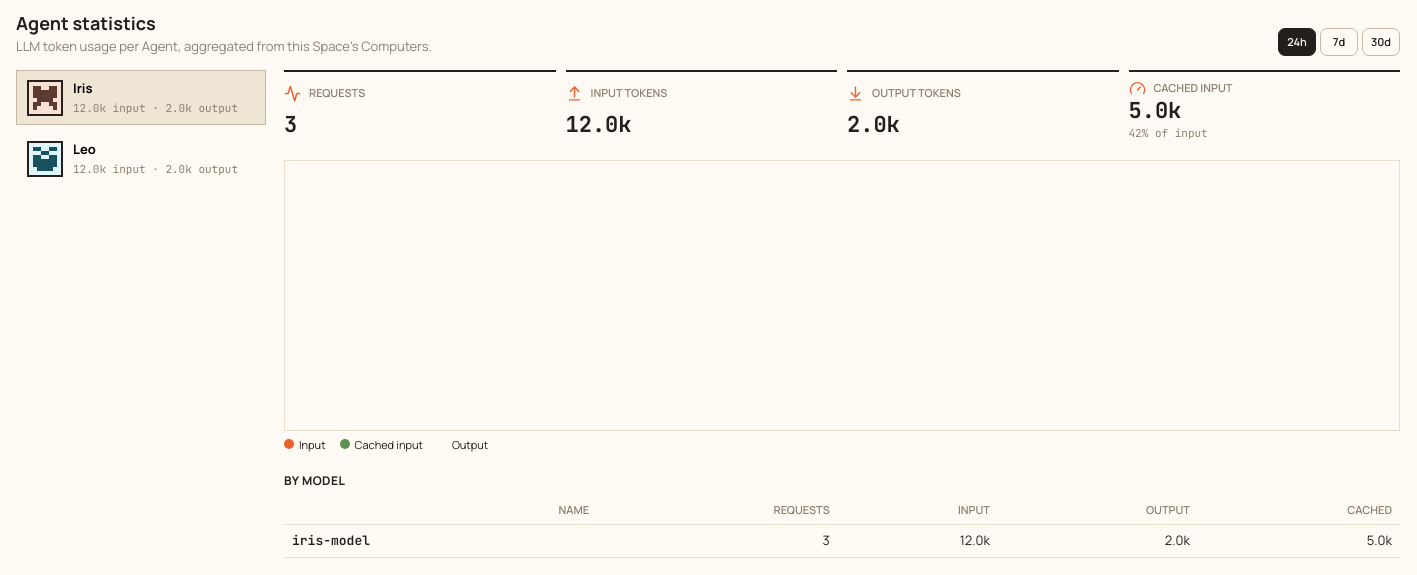
Test case: AgentStatisticsWorkspace › switches the selected Agent
Expected: the text "Iris" is shown, [73,79,92,97]
Click the button "Leo 12.0k input · 2.0k output": {"x": 141, "y": 159} [16,131,266,186]
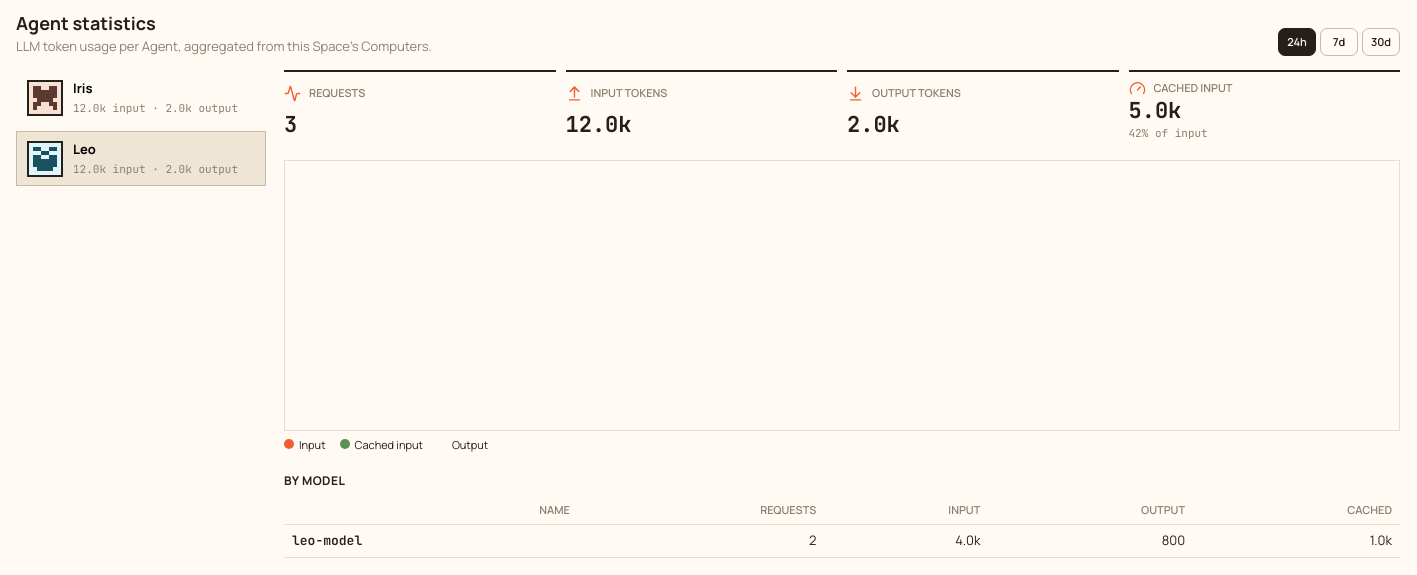
Result: the element named "Leo usage" is shown
Result: the column heading "leo-model" is shown at [284,525,578,557]
Result: the column heading "iris-model" is gone
